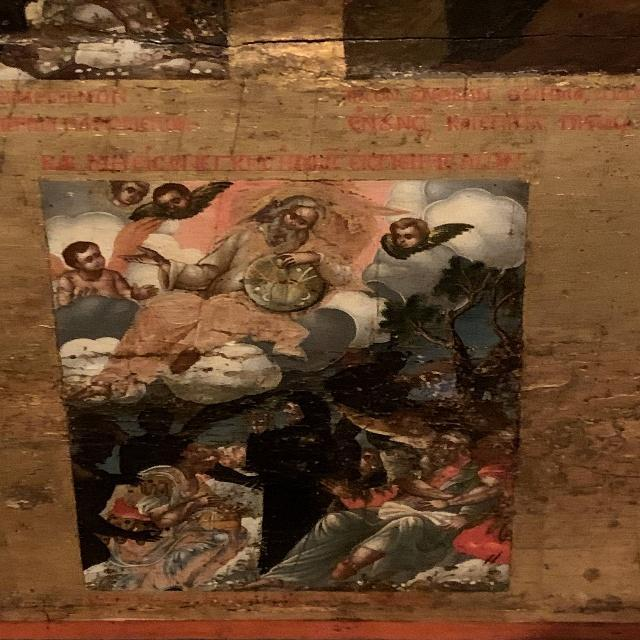angel: (48, 212, 167, 308), (373, 210, 477, 266), (129, 179, 235, 226)
cloud: (167, 344, 281, 401)
father: (129, 186, 389, 374)
orb: (240, 254, 333, 309)
wing: (106, 211, 164, 275), (189, 180, 231, 217), (125, 202, 162, 222)
